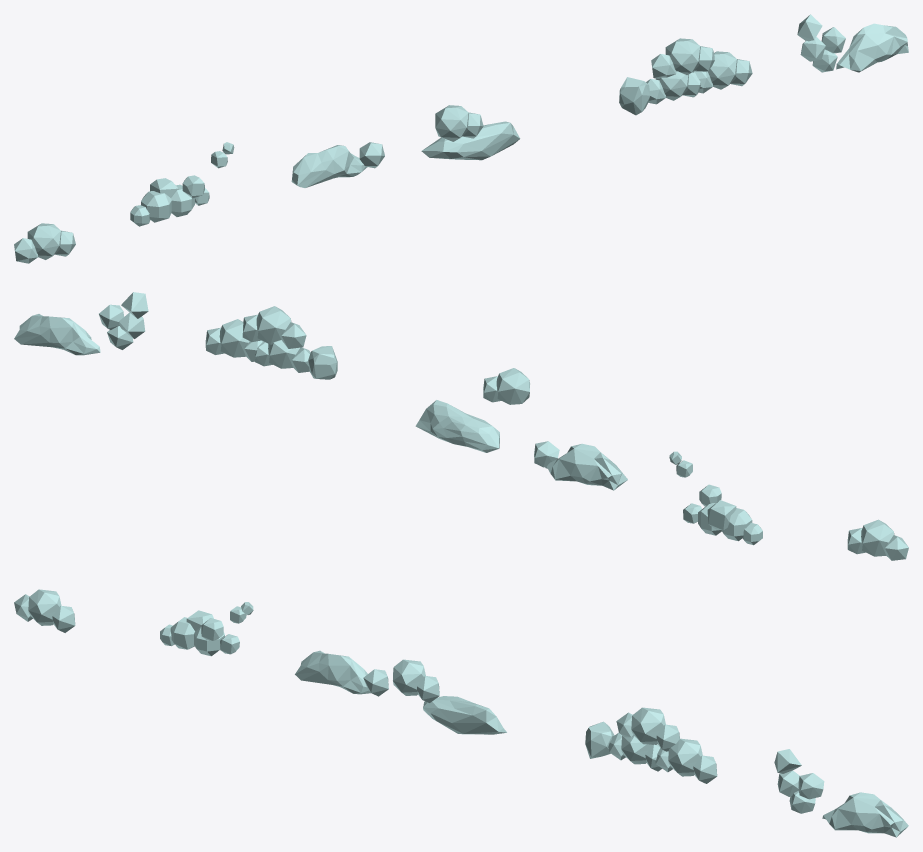
Rendered from cloud1.glb.
3 views of the same model, one above another, from view 1: azimuth 30°, elevation 25°; view 2: azimuth 150°, elevation 25°; view 3: azimuth 330°, elevation 25° (orthographic).
Parts seen in each view (by area): view 1: cloud 7, cloud 4, cloud 2, cloud 9, cloud 6, cloud 1, cloud 8, cloud 5; view 2: cloud 7, cloud 4, cloud 6, cloud 2, cloud 9, cloud 8, cloud 1, cloud 5; view 3: cloud 7, cloud 4, cloud 9, cloud 2, cloud 6, cloud 8, cloud 1, cloud 5.
Boxes of the visible parts, x1,y1,x2,y2 form: cloud 7: [619, 38, 752, 115]; cloud 4: [291, 142, 384, 187]; cloud 2: [130, 175, 209, 226]; cloud 9: [836, 23, 908, 72]; cloud 6: [421, 121, 520, 160]; cloud 1: [14, 223, 75, 263]; cloud 8: [797, 14, 845, 72]; cloud 5: [435, 105, 483, 141]; cloud 7: [205, 306, 337, 379]; cloud 4: [534, 441, 627, 490]; cloud 6: [415, 400, 499, 452]; cloud 2: [683, 484, 762, 545]; cloud 9: [14, 314, 100, 355]; cloud 8: [99, 292, 148, 349]; cloud 1: [847, 519, 908, 560]; cloud 5: [483, 368, 529, 404]; cloud 7: [585, 707, 717, 783]; cloud 4: [295, 650, 388, 696]; cloud 9: [822, 792, 908, 837]; cloud 2: [160, 610, 239, 656]; cloud 6: [423, 696, 506, 734]; cloud 8: [774, 749, 824, 813]; cloud 1: [14, 589, 75, 632]; cloud 5: [393, 659, 439, 702].
Size of the model in its own units: 19.64 by 1.79 by 2.1.
